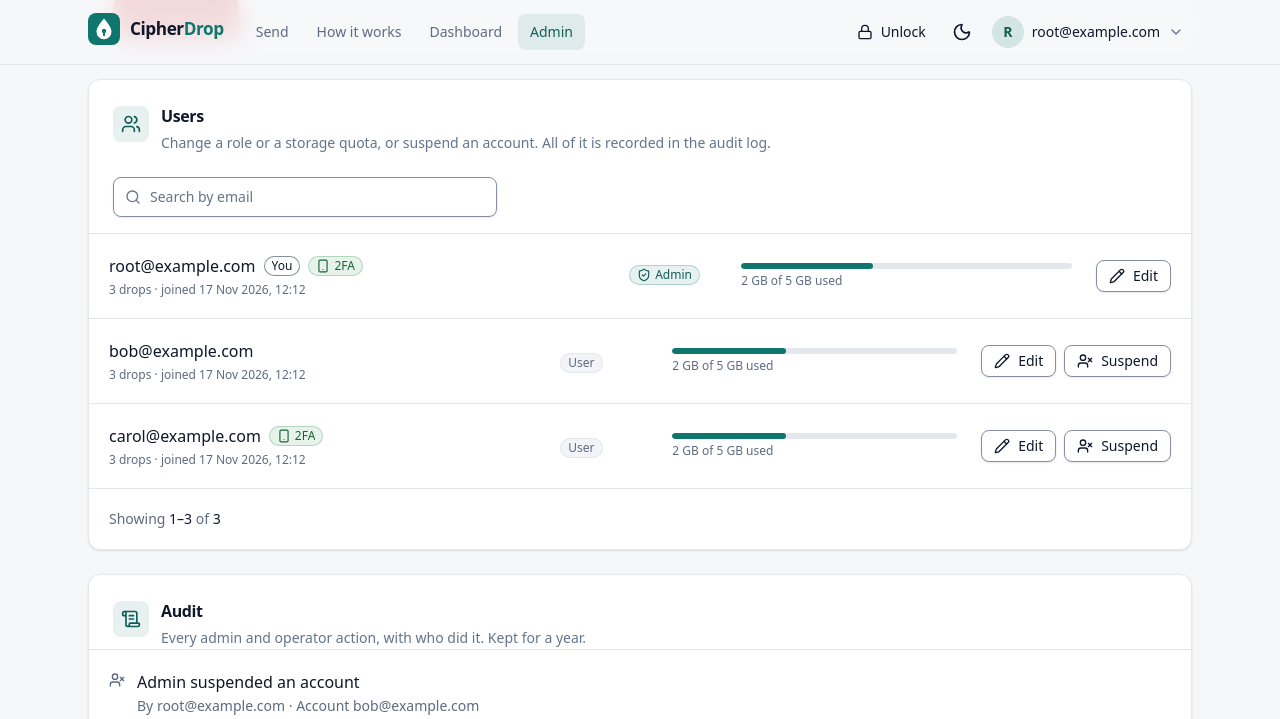
Scenario: AdminPage users › warns that an account without two-step verification cannot be an admin, and shows the refusal
The width and height of the screenshot is (1280, 719).
(page scrolled)
Click the 2nd button "Edit": [1019, 360] box [981,344,1056,376]
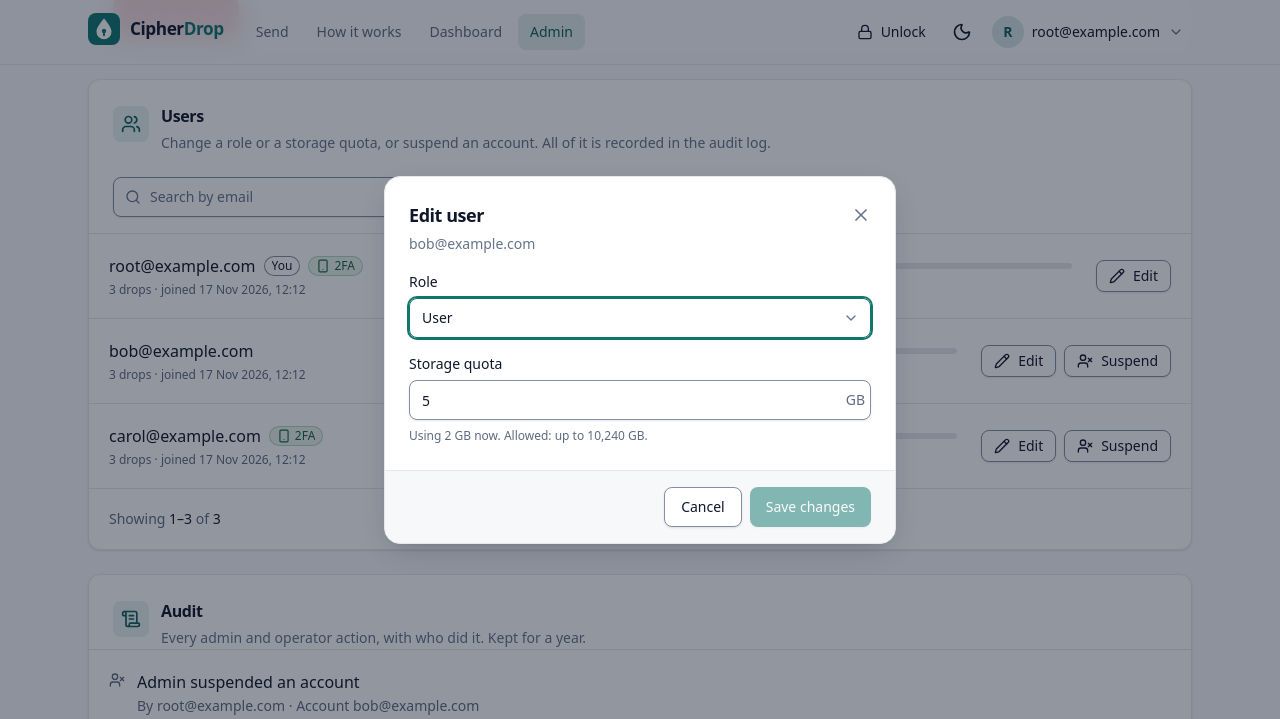
Expected: the text "cannot be an admin yet" is not shown
Select "Admin" in the dropdown labelled "Role": [640, 318] box [409,298,871,338]
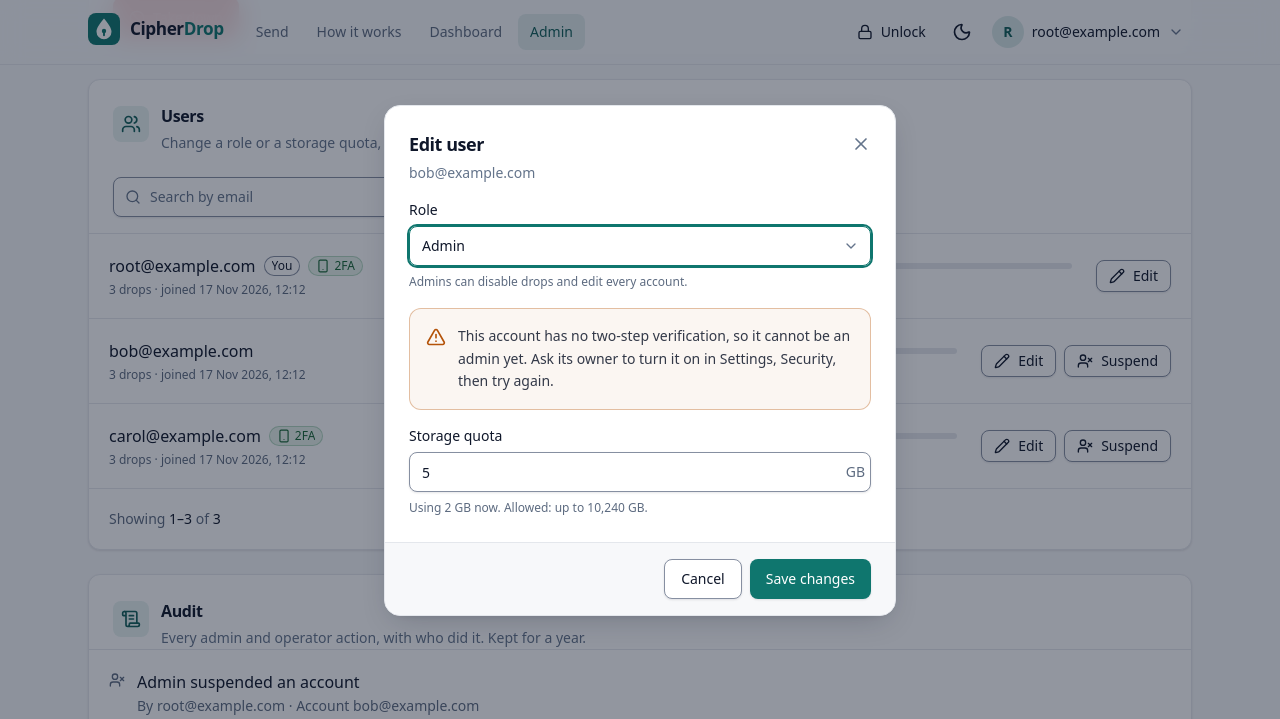
Expected: the text "no two-step verification, so it cannot be an admin yet" is shown, [458,326,850,390]
Click the button "Save changes": [810, 578] box [750,558,871,598]
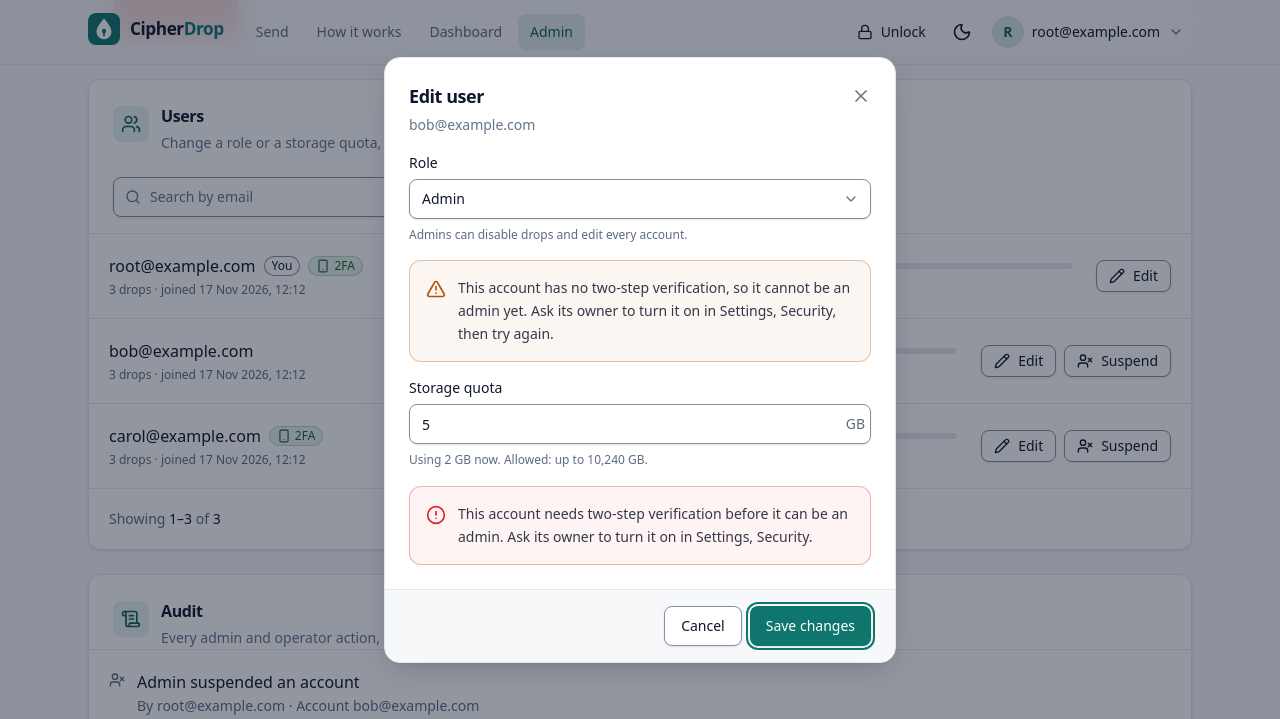
Expected: the dialog "Edit user" is shown, [384,57,896,663]
Expected: the text "needs two-step verification before it can be an admin" is shown, [458,504,848,546]
